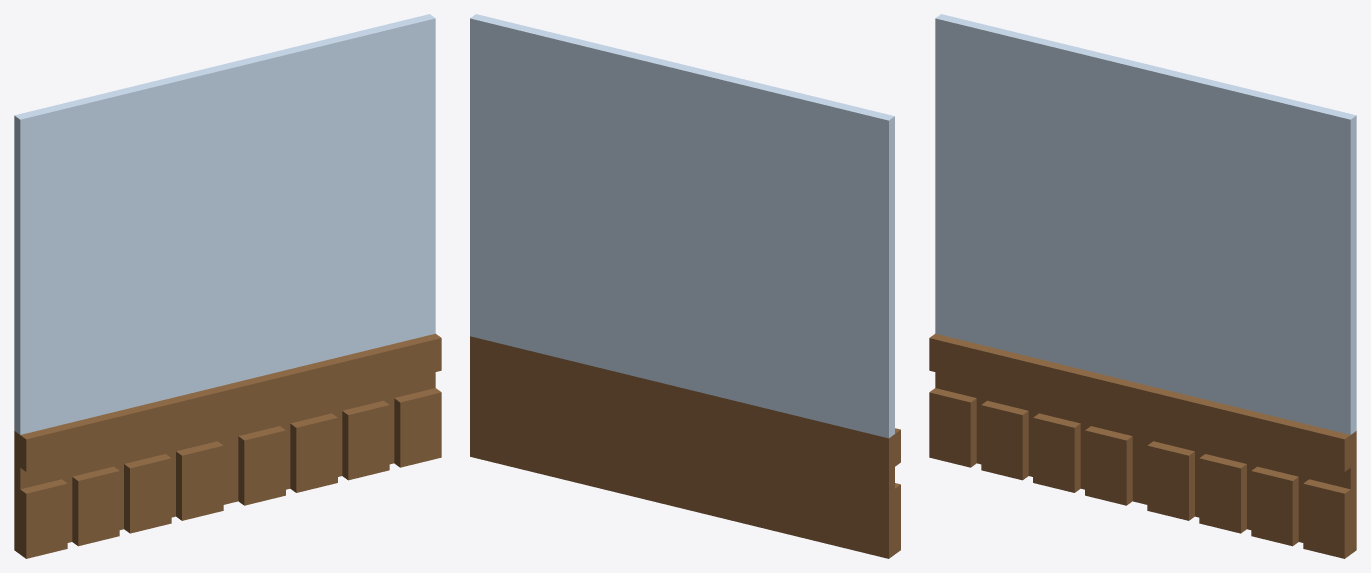
Rendered from maidstage2_wall1.fbx.
The picture shows the model from 3 angles, left to right: view 1: azimuth 30°, elevation 25°; view 2: azimuth 150°, elevation 25°; view 3: azimuth 330°, elevation 25°; orthographic projection.
Visible parts, largest first — view 1: maidstage2wall1; view 2: maidstage2wall1; view 3: maidstage2wall1.
Boxes of the visible parts, x1,y1,x2,y2 form: maidstage2wall1: (14,14,441,558); maidstage2wall1: (470,14,900,558); maidstage2wall1: (929,14,1356,558).
Bounding box in the file's own units: 400 × 400 × 20.
Materials: 1 (1 with a texture image).
